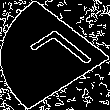L_SE: (16, 26, 94, 84)
